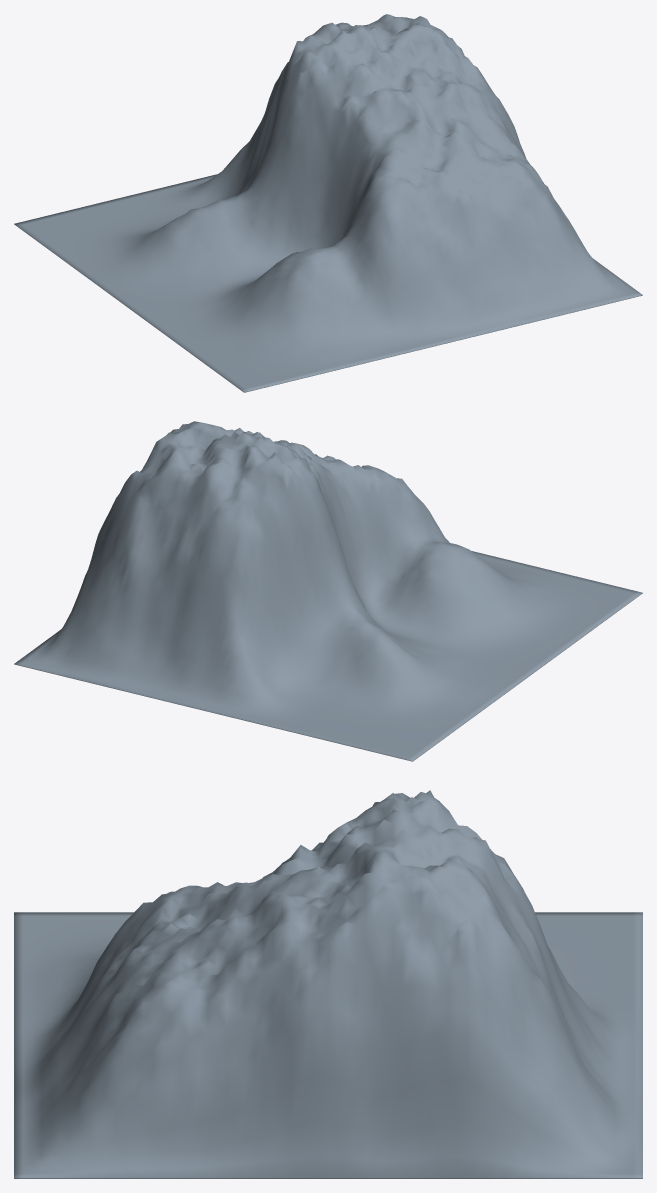
The model's file is SM_CliffE.fbx.
3 renders of one model, top to bottom at view 1: azimuth 30°, elevation 25°; view 2: azimuth 150°, elevation 25°; view 3: azimuth 270°, elevation 25°, orthographic. The views are drawn at different scales.
Visible parts, largest first — view 1: SM_CliffE; view 2: SM_CliffE; view 3: SM_CliffE.
Boxes of the visible parts, x1,y1,x2,y2 form: SM_CliffE: [14, 14, 642, 392]; SM_CliffE: [14, 421, 642, 761]; SM_CliffE: [14, 790, 642, 1178].
Size of the model in its own units: 100 by 100 by 48.12.
